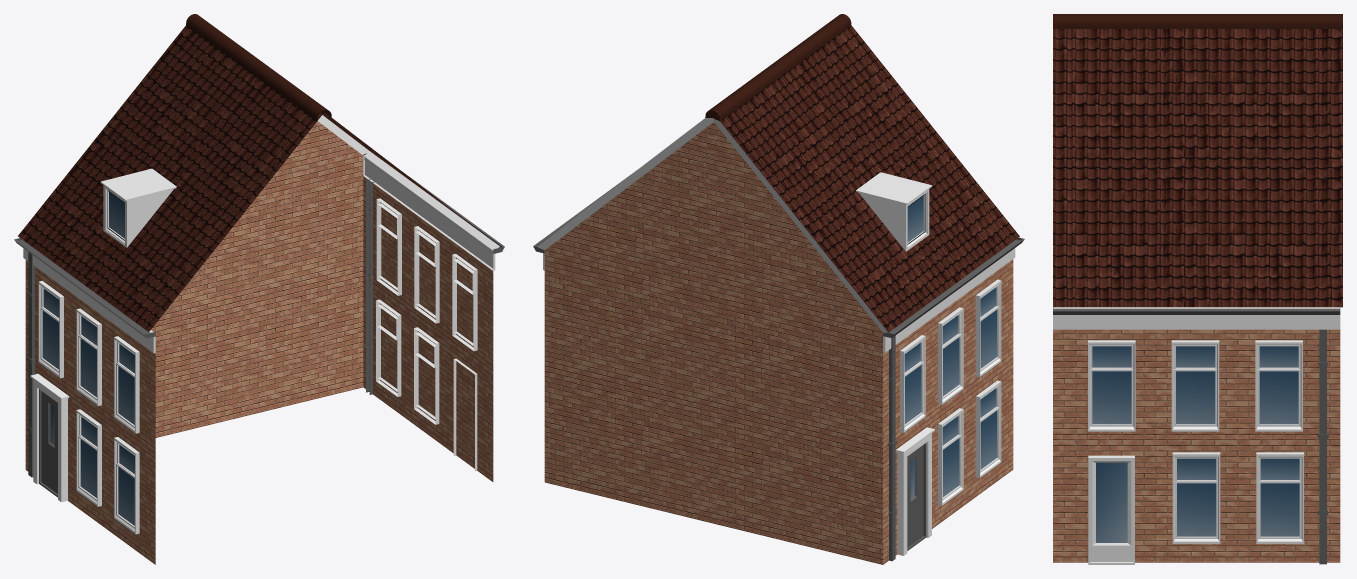
File: It_Uleboerd_3.fbx
3 renders of one model, left to right at view 1: azimuth 30°, elevation 25°; view 2: azimuth 150°, elevation 25°; view 3: azimuth 270°, elevation 25°, orthographic. The views are drawn at different scales.
Visible parts, largest first — view 1: It_Uleboerd_3; view 2: It_Uleboerd_3; view 3: It_Uleboerd_3.
Boxes of the visible parts, x1,y1,x2,y2 form: It_Uleboerd_3: (14,14,504,564); It_Uleboerd_3: (533,14,1024,564); It_Uleboerd_3: (1053,14,1342,564).
Bounding box in the file's own units: 929 × 1018 × 585.
